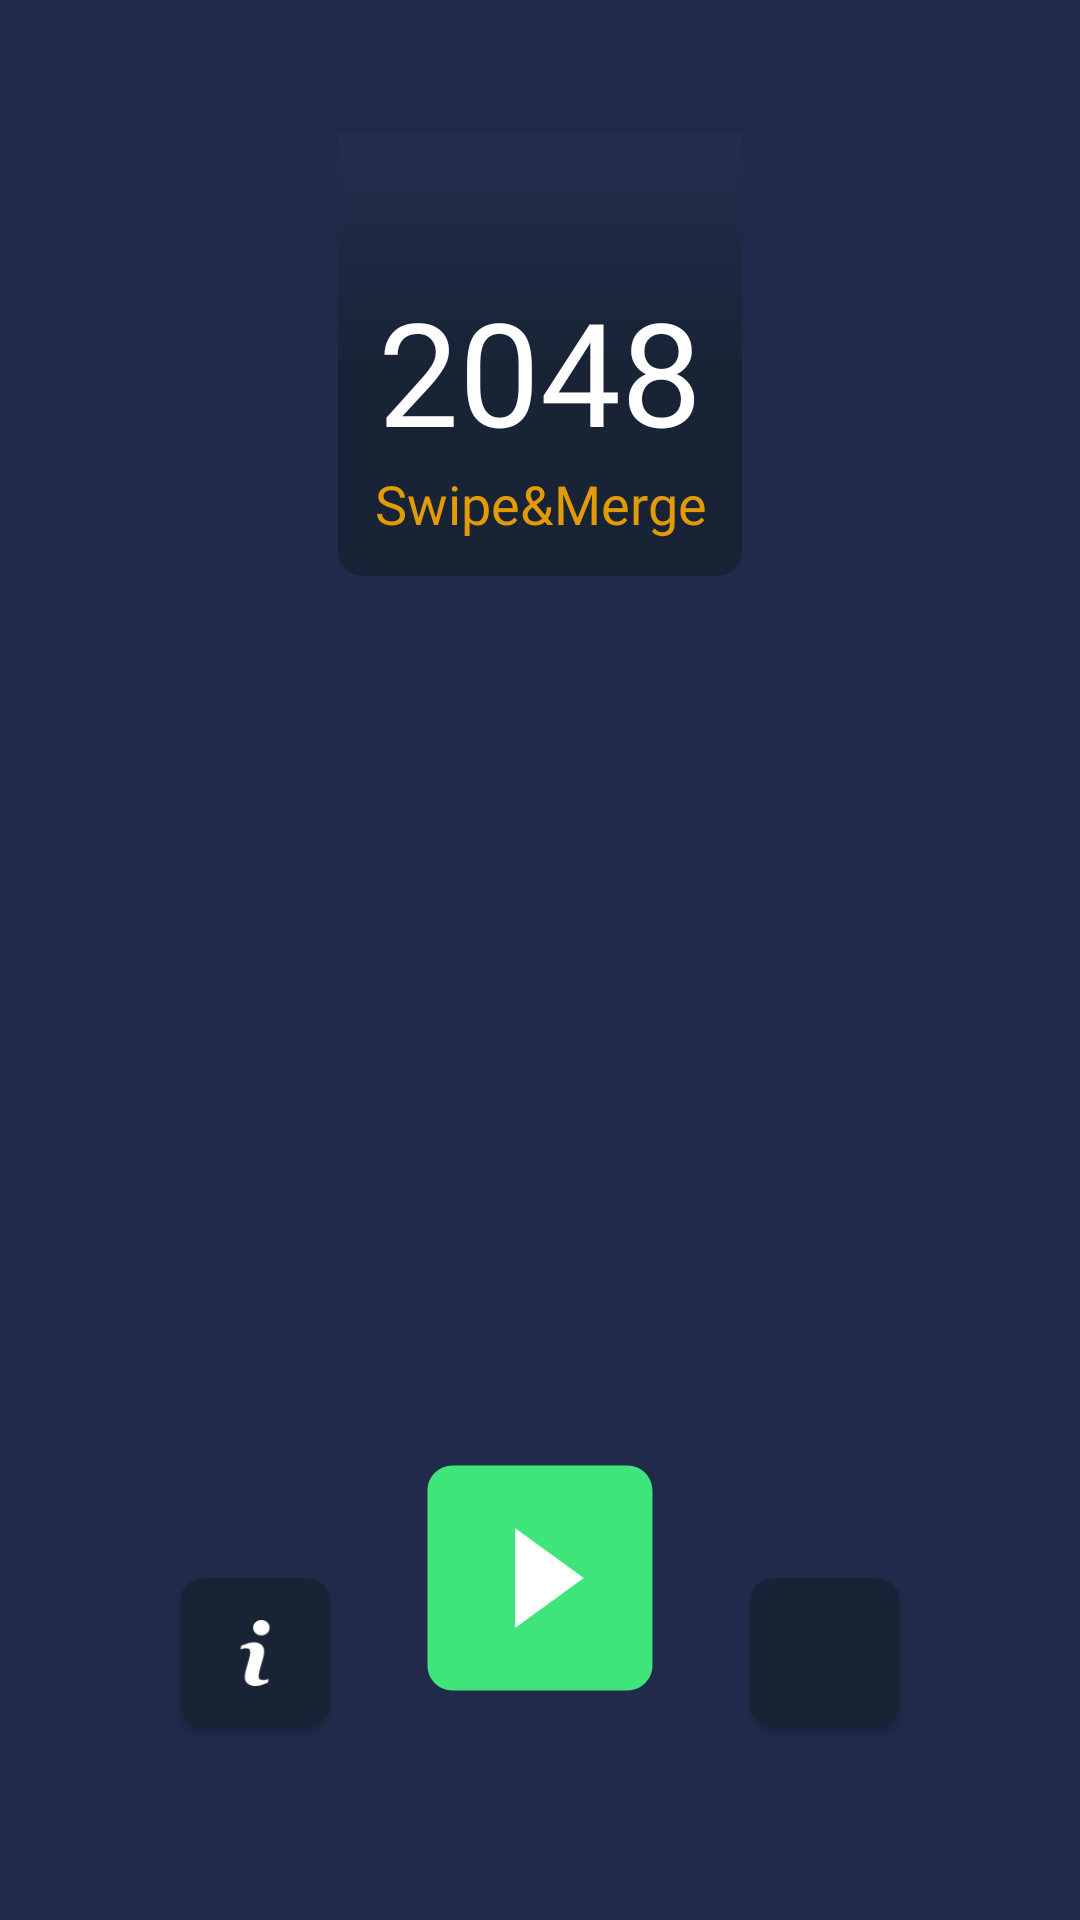

Point at icon controls on the screen. Image size 1080*1920, points as [x,y].
info: [255,1653]
start: [540,1578]
